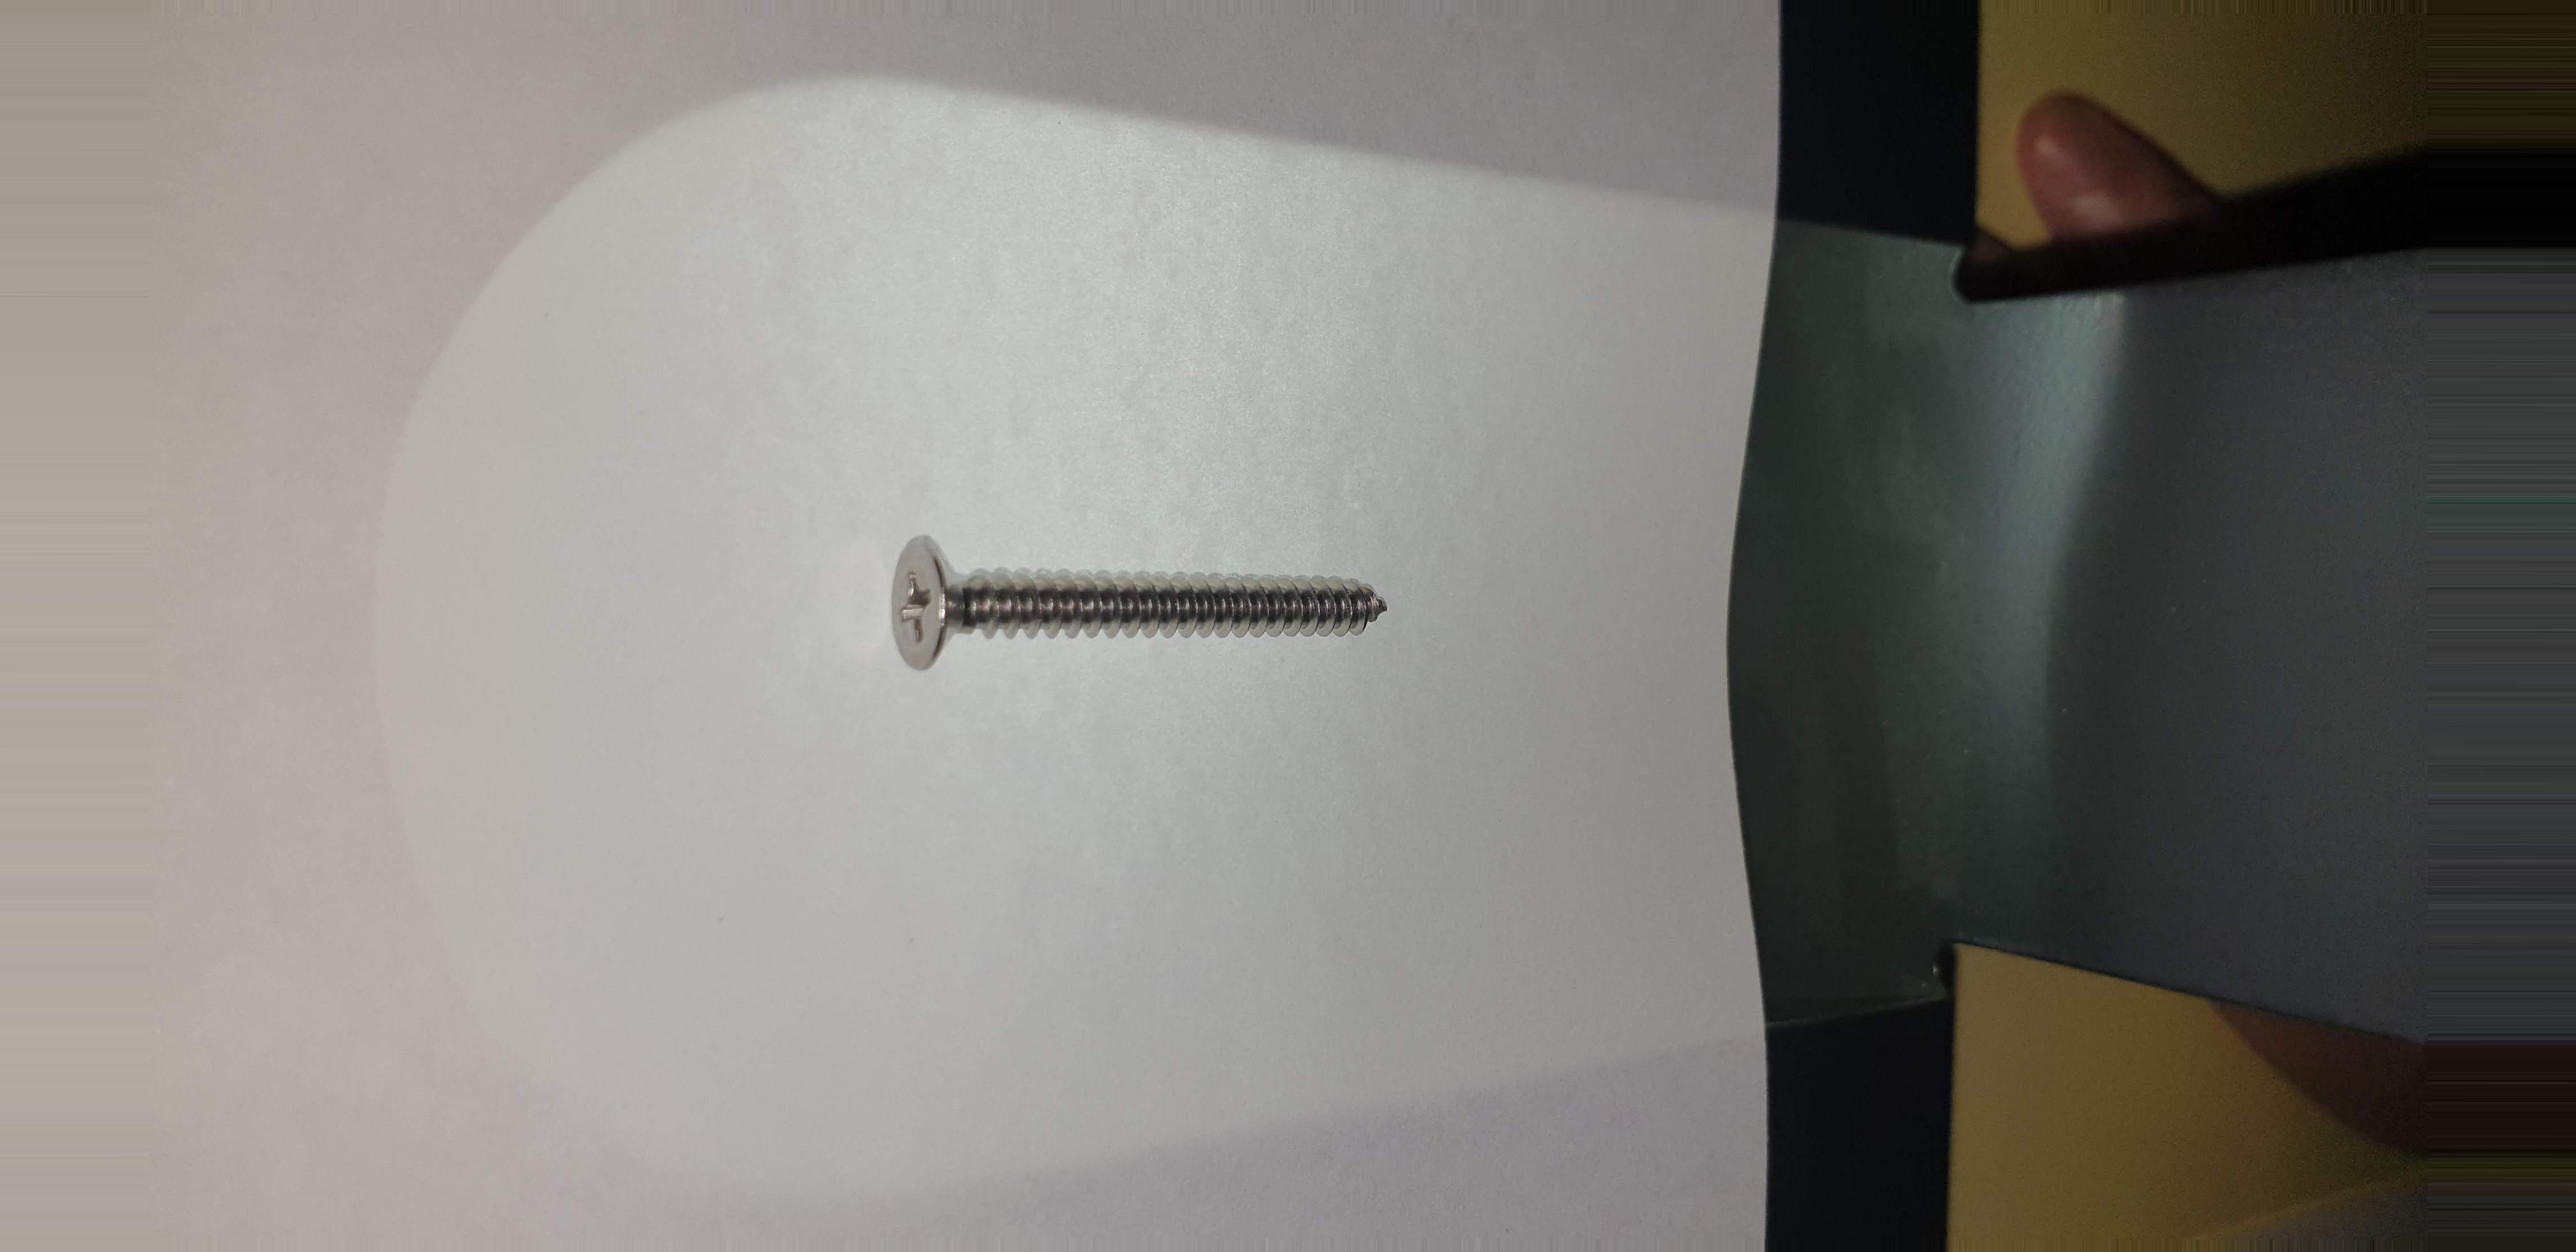fastener: (828, 483, 1447, 723)
